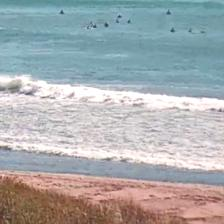surfer: (103, 22, 109, 28), (166, 10, 172, 16), (170, 28, 176, 34), (84, 26, 92, 30), (59, 10, 65, 15), (126, 19, 131, 25), (92, 24, 98, 29), (187, 28, 193, 33), (200, 31, 206, 36), (117, 14, 123, 19), (114, 20, 120, 24)
